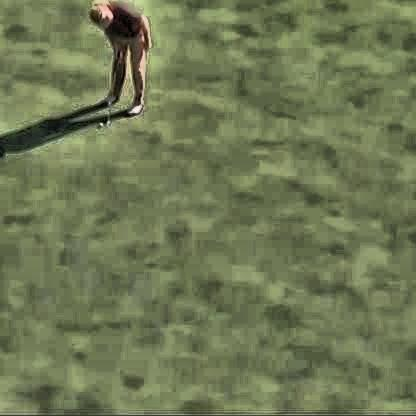golfball: (95, 119, 102, 129)
